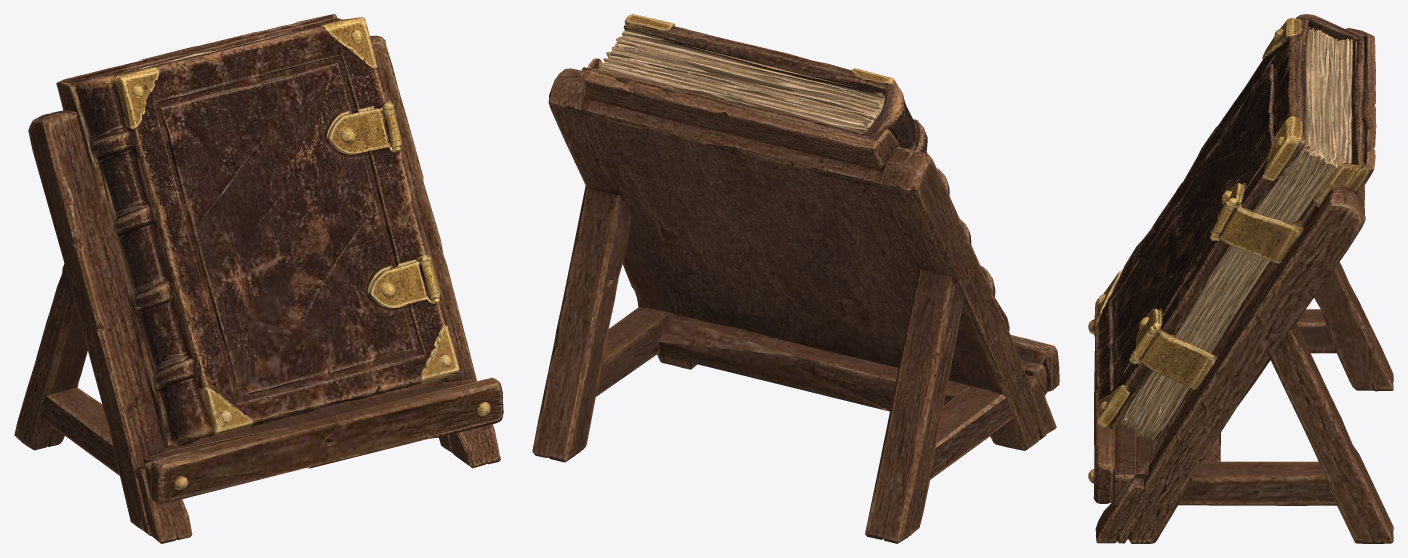
File: keepers-ledger.glb
The picture shows the model from 3 angles, left to right: view 1: azimuth 30°, elevation 25°; view 2: azimuth 150°, elevation 25°; view 3: azimuth 270°, elevation 25°; orthographic projection. The views are drawn at different scales.
Visible parts, largest first — view 1: Mesh_0; view 2: Mesh_0; view 3: Mesh_0.
Part boxes in pixels (bbox=[...]): Mesh_0: bbox=[14, 14, 503, 543]; Mesh_0: bbox=[532, 14, 1059, 543]; Mesh_0: bbox=[1088, 14, 1393, 543].
Bounding box in the file's own units: 1.79 × 1.9 × 1.35.
1 material, 1 textured.
